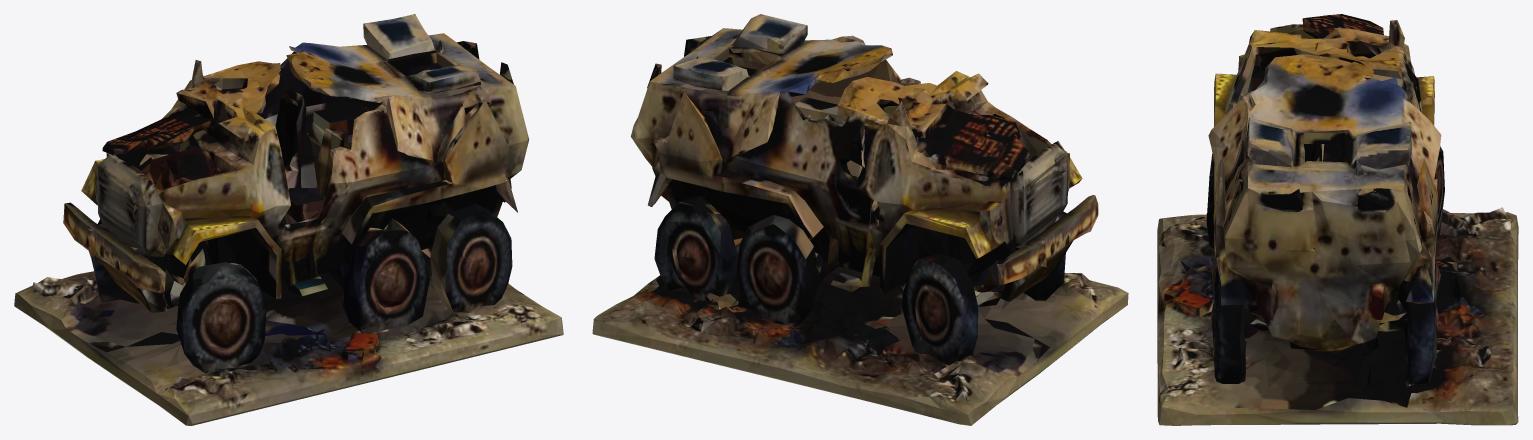
Rendered from outpost-containers.glb.
The picture shows the model from 3 angles, left to right: view 1: azimuth 30°, elevation 25°; view 2: azimuth 150°, elevation 25°; view 3: azimuth 270°, elevation 25°; orthographic projection. The views are drawn at different scales.
Parts seen in each view (by area): view 1: tmpptxnlw7i.ply; view 2: tmpptxnlw7i.ply; view 3: tmpptxnlw7i.ply.
Boxes of the visible parts, bbox=[...] form: tmpptxnlw7i.ply: bbox=[14, 14, 563, 425]; tmpptxnlw7i.ply: bbox=[592, 14, 1128, 425]; tmpptxnlw7i.ply: bbox=[1157, 14, 1518, 425].
Bounding box in the file's own units: 4 × 2.5 × 3.
Materials: 1 (1 with a texture image).
